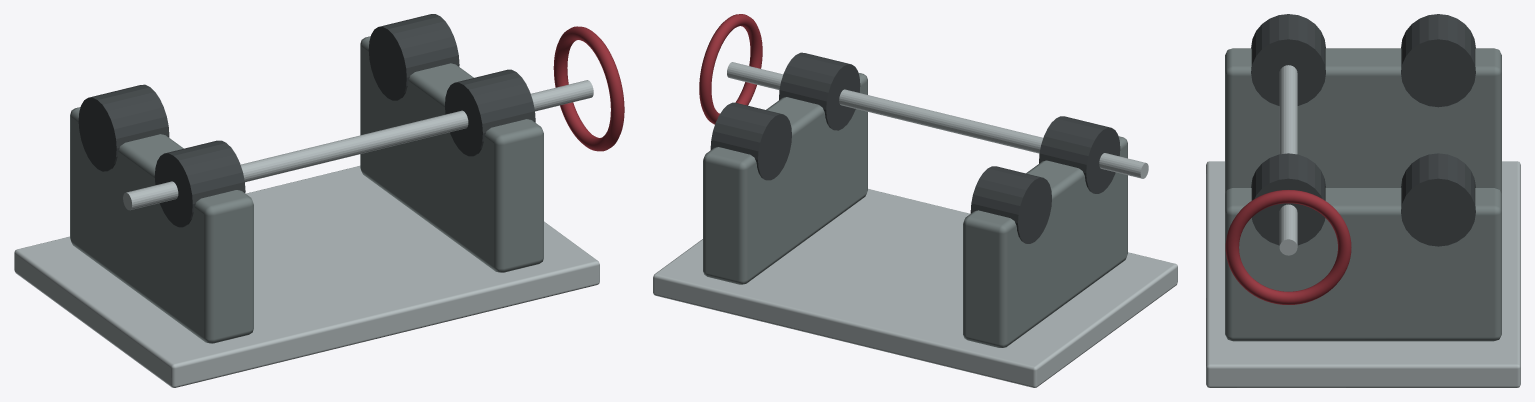
The model's file is pneumatic-tube-mail-exchange-pneumatic-tube-mail-excha-2eef4e3c__32318.glb.
The picture shows the model from 3 angles, left to right: view 1: azimuth 30°, elevation 25°; view 2: azimuth 150°, elevation 25°; view 3: azimuth 270°, elevation 25°; orthographic projection. The views are drawn at different scales.
Parts seen in each view (by area): view 1: pneumatic-tube-mail-exchange-bench-mounted-carrier-rotation- (×4); view 2: pneumatic-tube-mail-exchange-bench-mounted-carrier-rotation- (×4); view 3: pneumatic-tube-mail-exchange-bench-mounted-carrier-rotation- (×4).
Part boxes in pixels (box(x1,y1,x2,y2)): pneumatic-tube-mail-exchange-bench-mounted-carrier-rotation- (×4): box(14, 14, 624, 387); pneumatic-tube-mail-exchange-bench-mounted-carrier-rotation- (×4): box(653, 14, 1177, 387); pneumatic-tube-mail-exchange-bench-mounted-carrier-rotation- (×4): box(1206, 14, 1520, 387).
Size of the model in its own units: 0.709 by 0.314 by 0.42.
